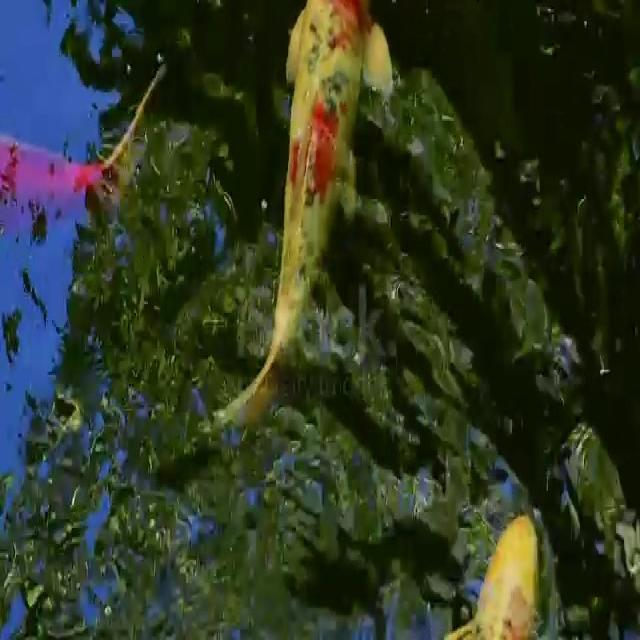fish: (246, 0, 399, 450), (479, 433, 554, 640)
